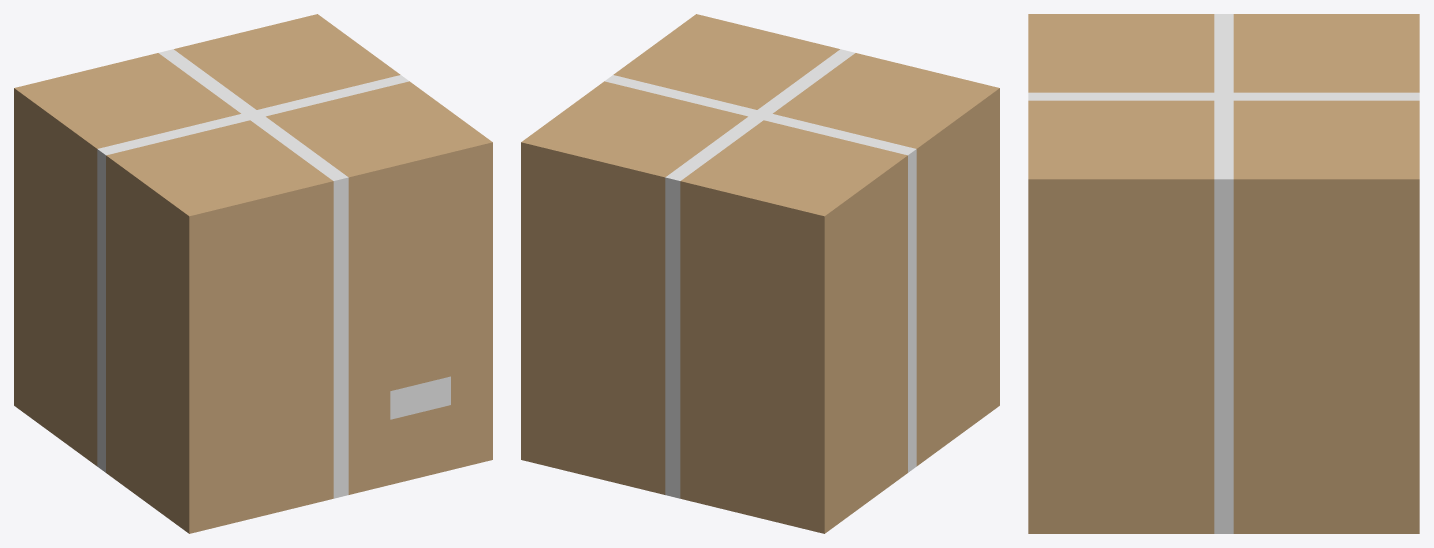
File: runaway_items_box.fbx
3 views of the same model, side by side, from view 1: azimuth 30°, elevation 25°; view 2: azimuth 150°, elevation 25°; view 3: azimuth 270°, elevation 25° (orthographic). The views are drawn at different scales.
Visible parts, largest first — view 1: Cube; view 2: Cube; view 3: Cube.
Boxes of the visible parts, box(x1,y1,x2,y2) form: Cube: box(14, 14, 492, 533); Cube: box(521, 14, 999, 533); Cube: box(1028, 14, 1419, 533).
Bounding box in the file's own units: 200 × 200 × 200.
